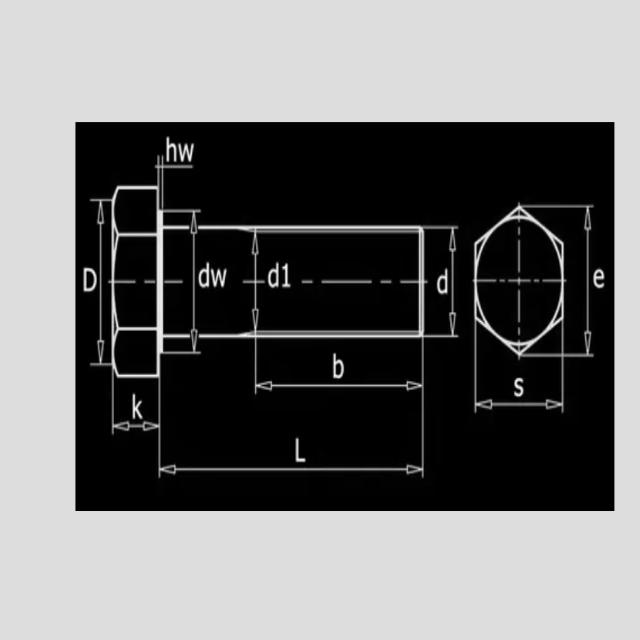marking_line: (160, 462, 421, 480), (259, 379, 421, 397), (582, 207, 592, 355), (447, 229, 458, 334), (98, 202, 105, 363), (249, 230, 260, 332), (478, 397, 562, 410), (190, 213, 197, 352), (110, 423, 158, 432)
